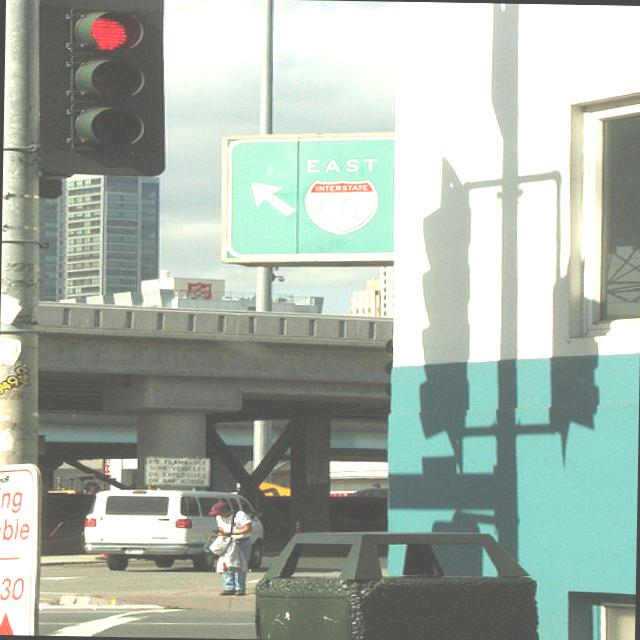Vehicle: (80, 487, 266, 574)
